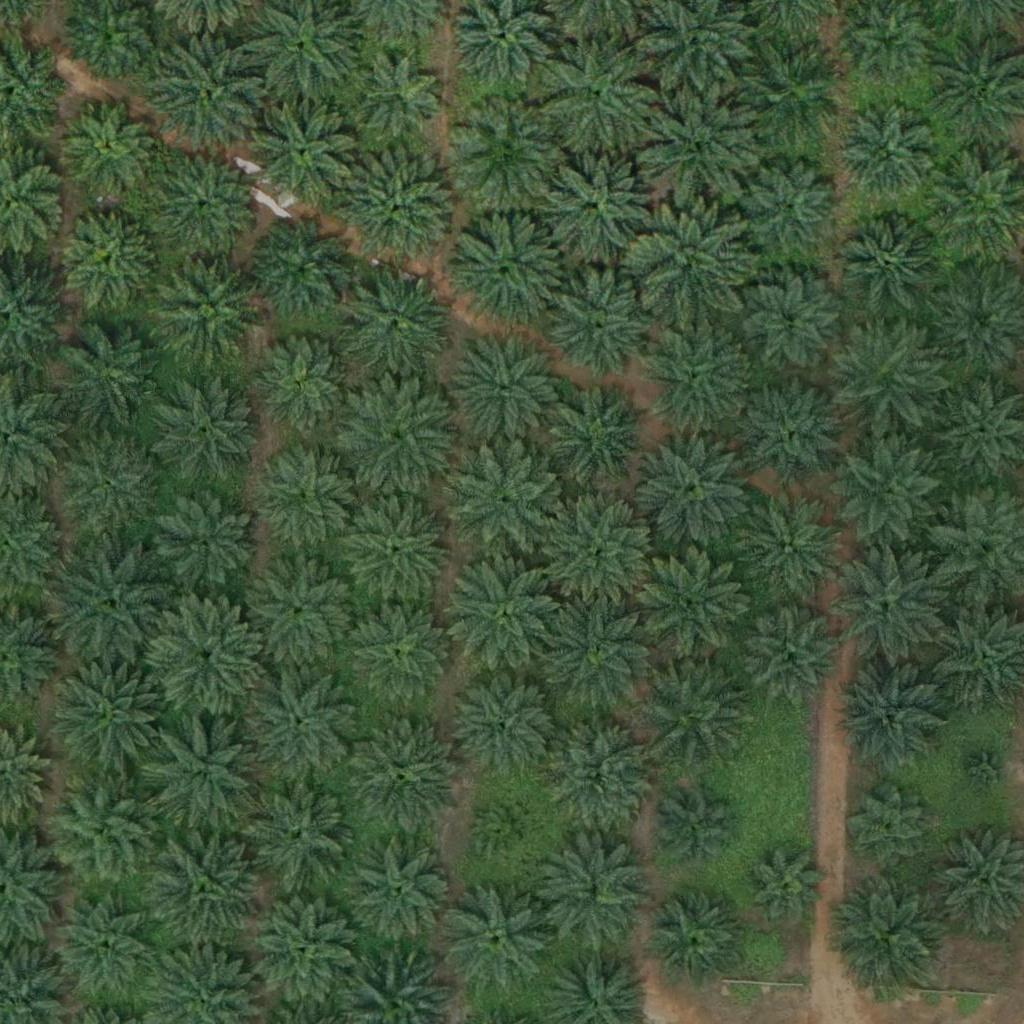Kelapa_Sawit: (543, 716, 656, 830), (449, 557, 562, 671), (55, 317, 168, 431), (44, 773, 157, 887), (149, 831, 262, 945), (248, 91, 361, 204), (342, 151, 455, 264), (452, 210, 565, 323), (640, 91, 753, 204), (634, 206, 747, 319), (833, 437, 946, 550), (833, 550, 946, 663), (836, 665, 949, 778), (731, 486, 844, 599), (547, 497, 660, 610), (541, 592, 654, 705), (448, 332, 561, 445), (452, 448, 565, 561), (339, 267, 452, 380), (344, 381, 457, 494), (151, 600, 264, 713), (148, 712, 261, 825), (52, 430, 165, 543), (57, 549, 170, 662), (50, 661, 163, 774), (441, 883, 554, 996), (537, 840, 650, 953), (836, 878, 949, 991), (149, 252, 261, 366), (345, 495, 457, 609), (148, 376, 260, 490), (250, 895, 362, 1009), (149, 40, 261, 153), (147, 150, 259, 263), (451, 96, 563, 209), (545, 38, 657, 151), (543, 144, 655, 257), (736, 39, 848, 152), (828, 319, 940, 432), (640, 323, 752, 436), (637, 434, 749, 547), (642, 546, 754, 659), (641, 653, 753, 766), (547, 268, 659, 381), (347, 721, 459, 834), (246, 558, 358, 671), (250, 668, 362, 781), (244, 777, 356, 890), (250, 218, 350, 319), (350, 51, 450, 152), (740, 156, 840, 257), (742, 275, 842, 376), (842, 217, 942, 318), (742, 379, 842, 480), (743, 606, 843, 707), (552, 385, 652, 486), (352, 842, 452, 943), (64, 98, 164, 198), (60, 210, 160, 310), (837, 104, 937, 204), (457, 674, 557, 774), (350, 605, 450, 705), (251, 337, 351, 437), (256, 451, 356, 551), (159, 495, 259, 595), (55, 900, 155, 1000), (652, 896, 740, 985), (843, 1, 931, 89), (848, 786, 935, 874), (661, 796, 736, 872), (747, 847, 822, 922), (478, 799, 540, 862), (963, 744, 1013, 795)
